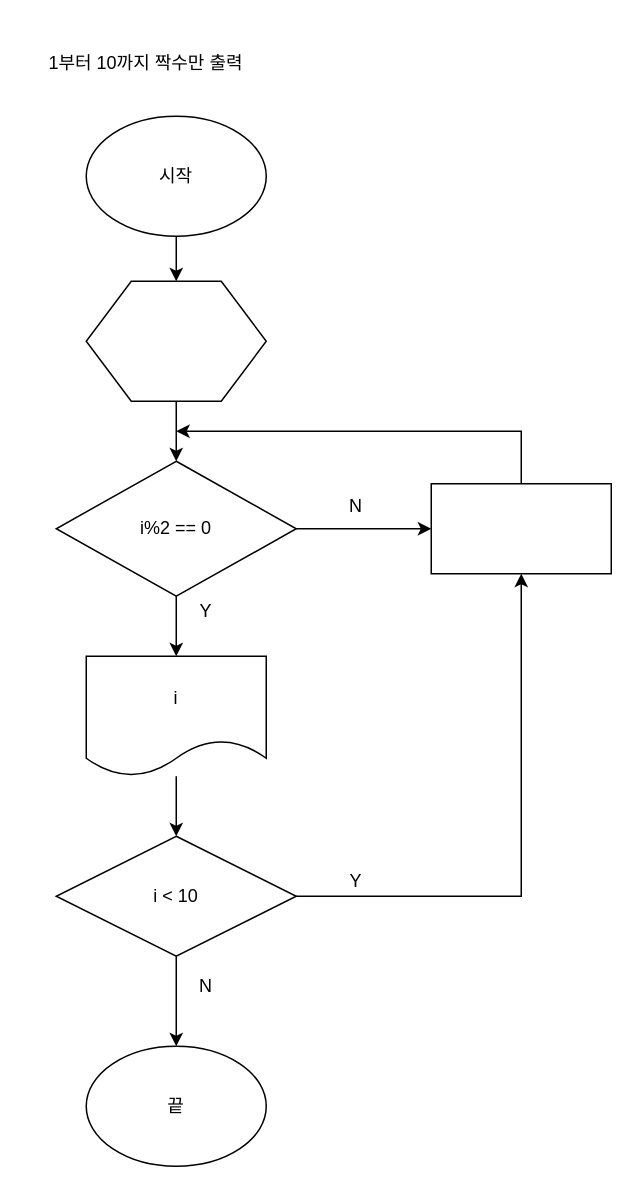
Image size: 638x1193. Some labels were removed from this diagram. Each missing label, with the centre of its shape:
"i = 1" belongs at (175,340).
"i = i + 1" belongs at (520,528).
